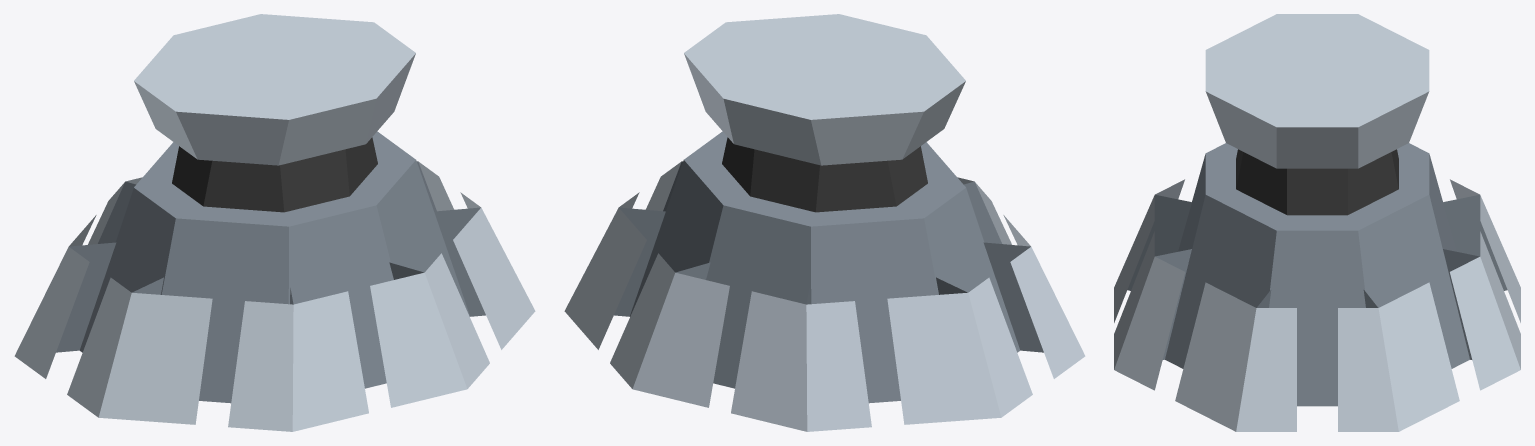
Rendered from setu.FBX.
3 views of the same model, side by side, from view 1: azimuth 30°, elevation 25°; view 2: azimuth 150°, elevation 25°; view 3: azimuth 270°, elevation 25° (orthographic). The views are drawn at different scales.
Parts seen in each view (by area): view 1: VIFS001, VIFS002, VIFS003; view 2: VIFS001, VIFS002, VIFS003; view 3: VIFS001, VIFS002, VIFS003.
Boxes of the visible parts, left/top/right/bottom form: VIFS001: left=14, top=14, right=535, bottom=431; VIFS002: left=56, top=131, right=485, bottom=403; VIFS003: left=172, top=137, right=377, bottom=212; VIFS001: left=564, top=14, right=1085, bottom=431; VIFS002: left=614, top=131, right=1043, bottom=403; VIFS003: left=722, top=137, right=927, bottom=212; VIFS001: left=1114, top=14, right=1520, bottom=431; VIFS002: left=1127, top=143, right=1507, bottom=406; VIFS003: left=1236, top=149, right=1398, bottom=215.
Bounding box in the file's own units: 1 × 0.5833 × 0.8333.
